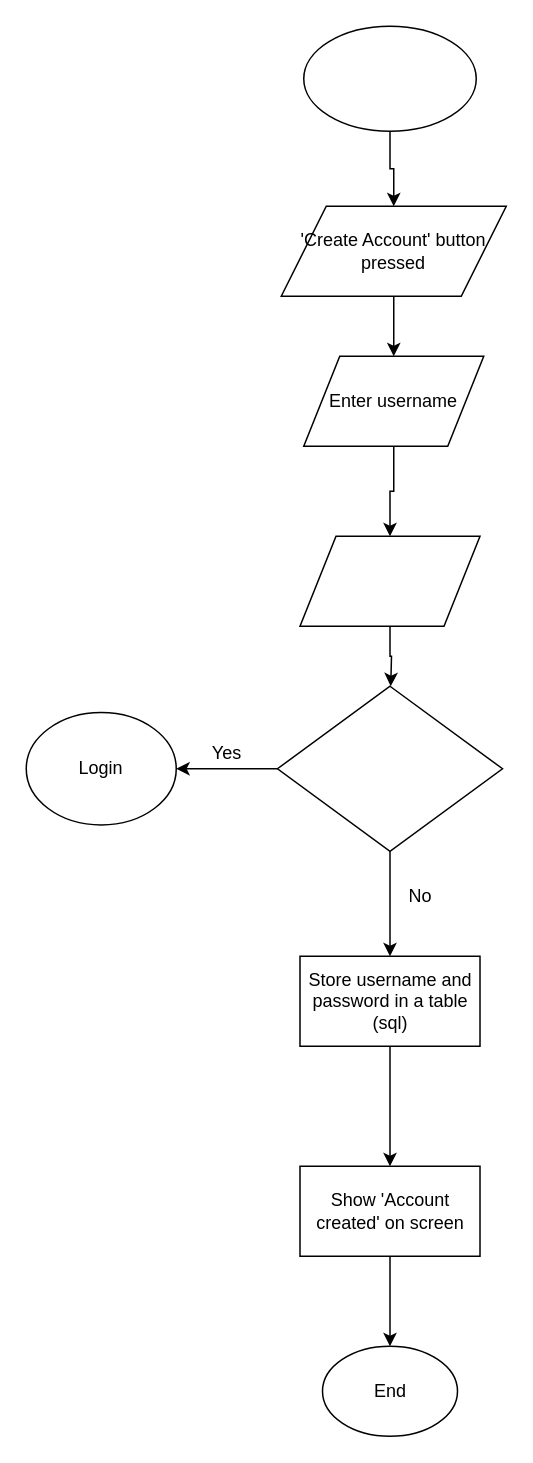
Image size: 533x1463. Some labels were removed from this diagram. Each missing label, with the centre of its shape:
Does username and password exist?: the point at 389,768
Enter password: the point at 389,580
Register: the point at 389,78
